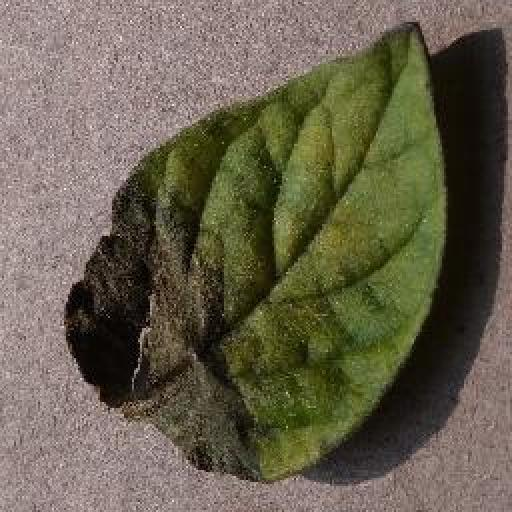disease_tomato: (65, 17, 451, 484)
